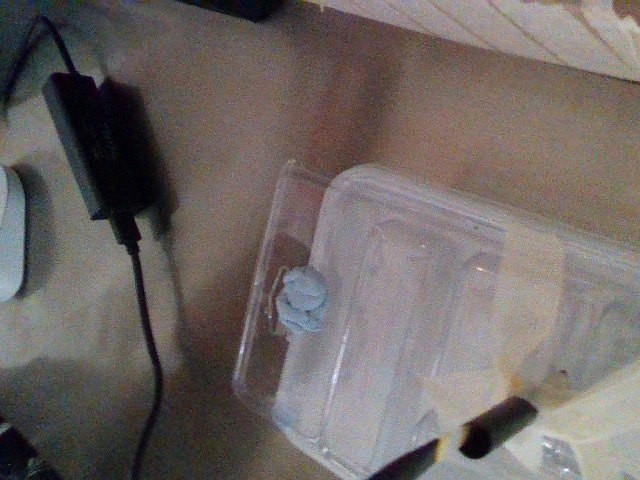test_strip: (368, 422, 468, 478)
